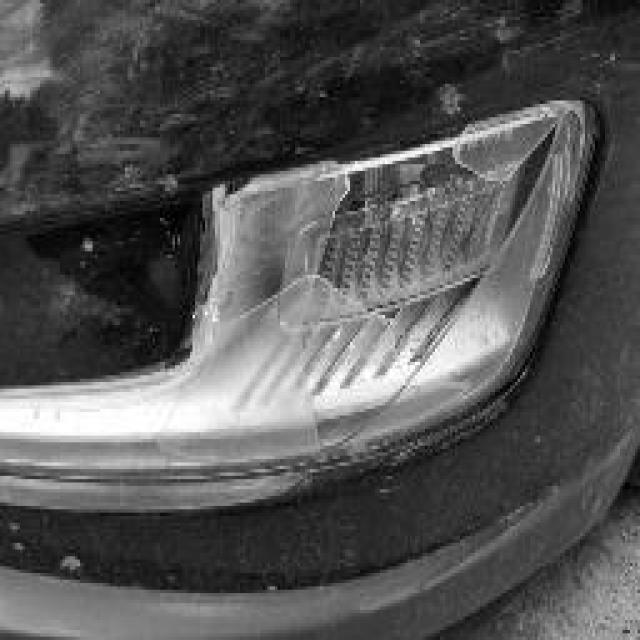Light: (175, 121, 575, 432)
